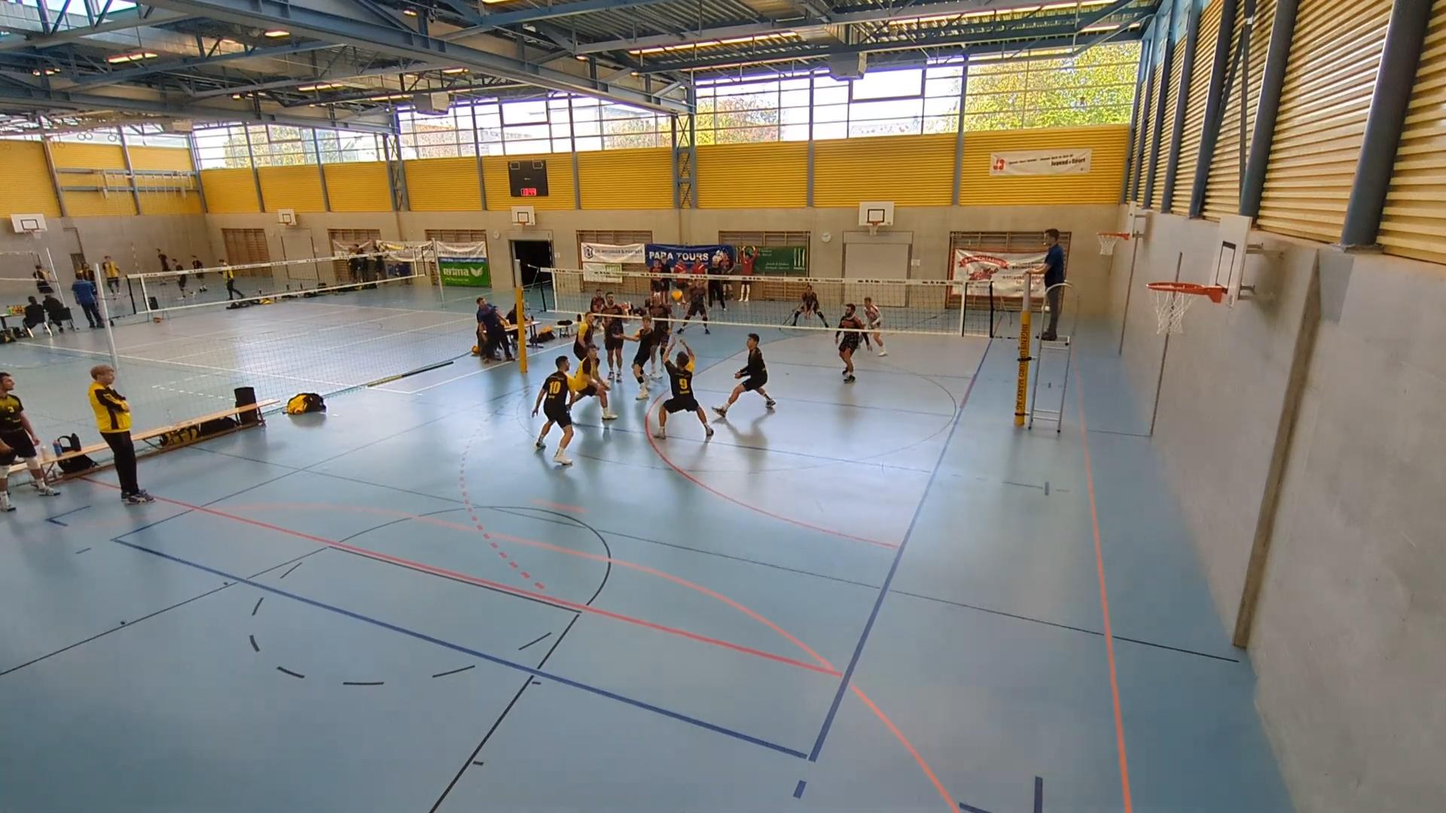Dig: (655, 333, 713, 441)
Player: (714, 333, 776, 418), (532, 356, 573, 464), (569, 346, 618, 420), (624, 315, 660, 400), (835, 303, 865, 382), (602, 292, 627, 380), (648, 291, 672, 379), (677, 281, 709, 334), (792, 284, 826, 327), (863, 297, 887, 356), (572, 313, 596, 361)
ball: (665, 285, 686, 307)
